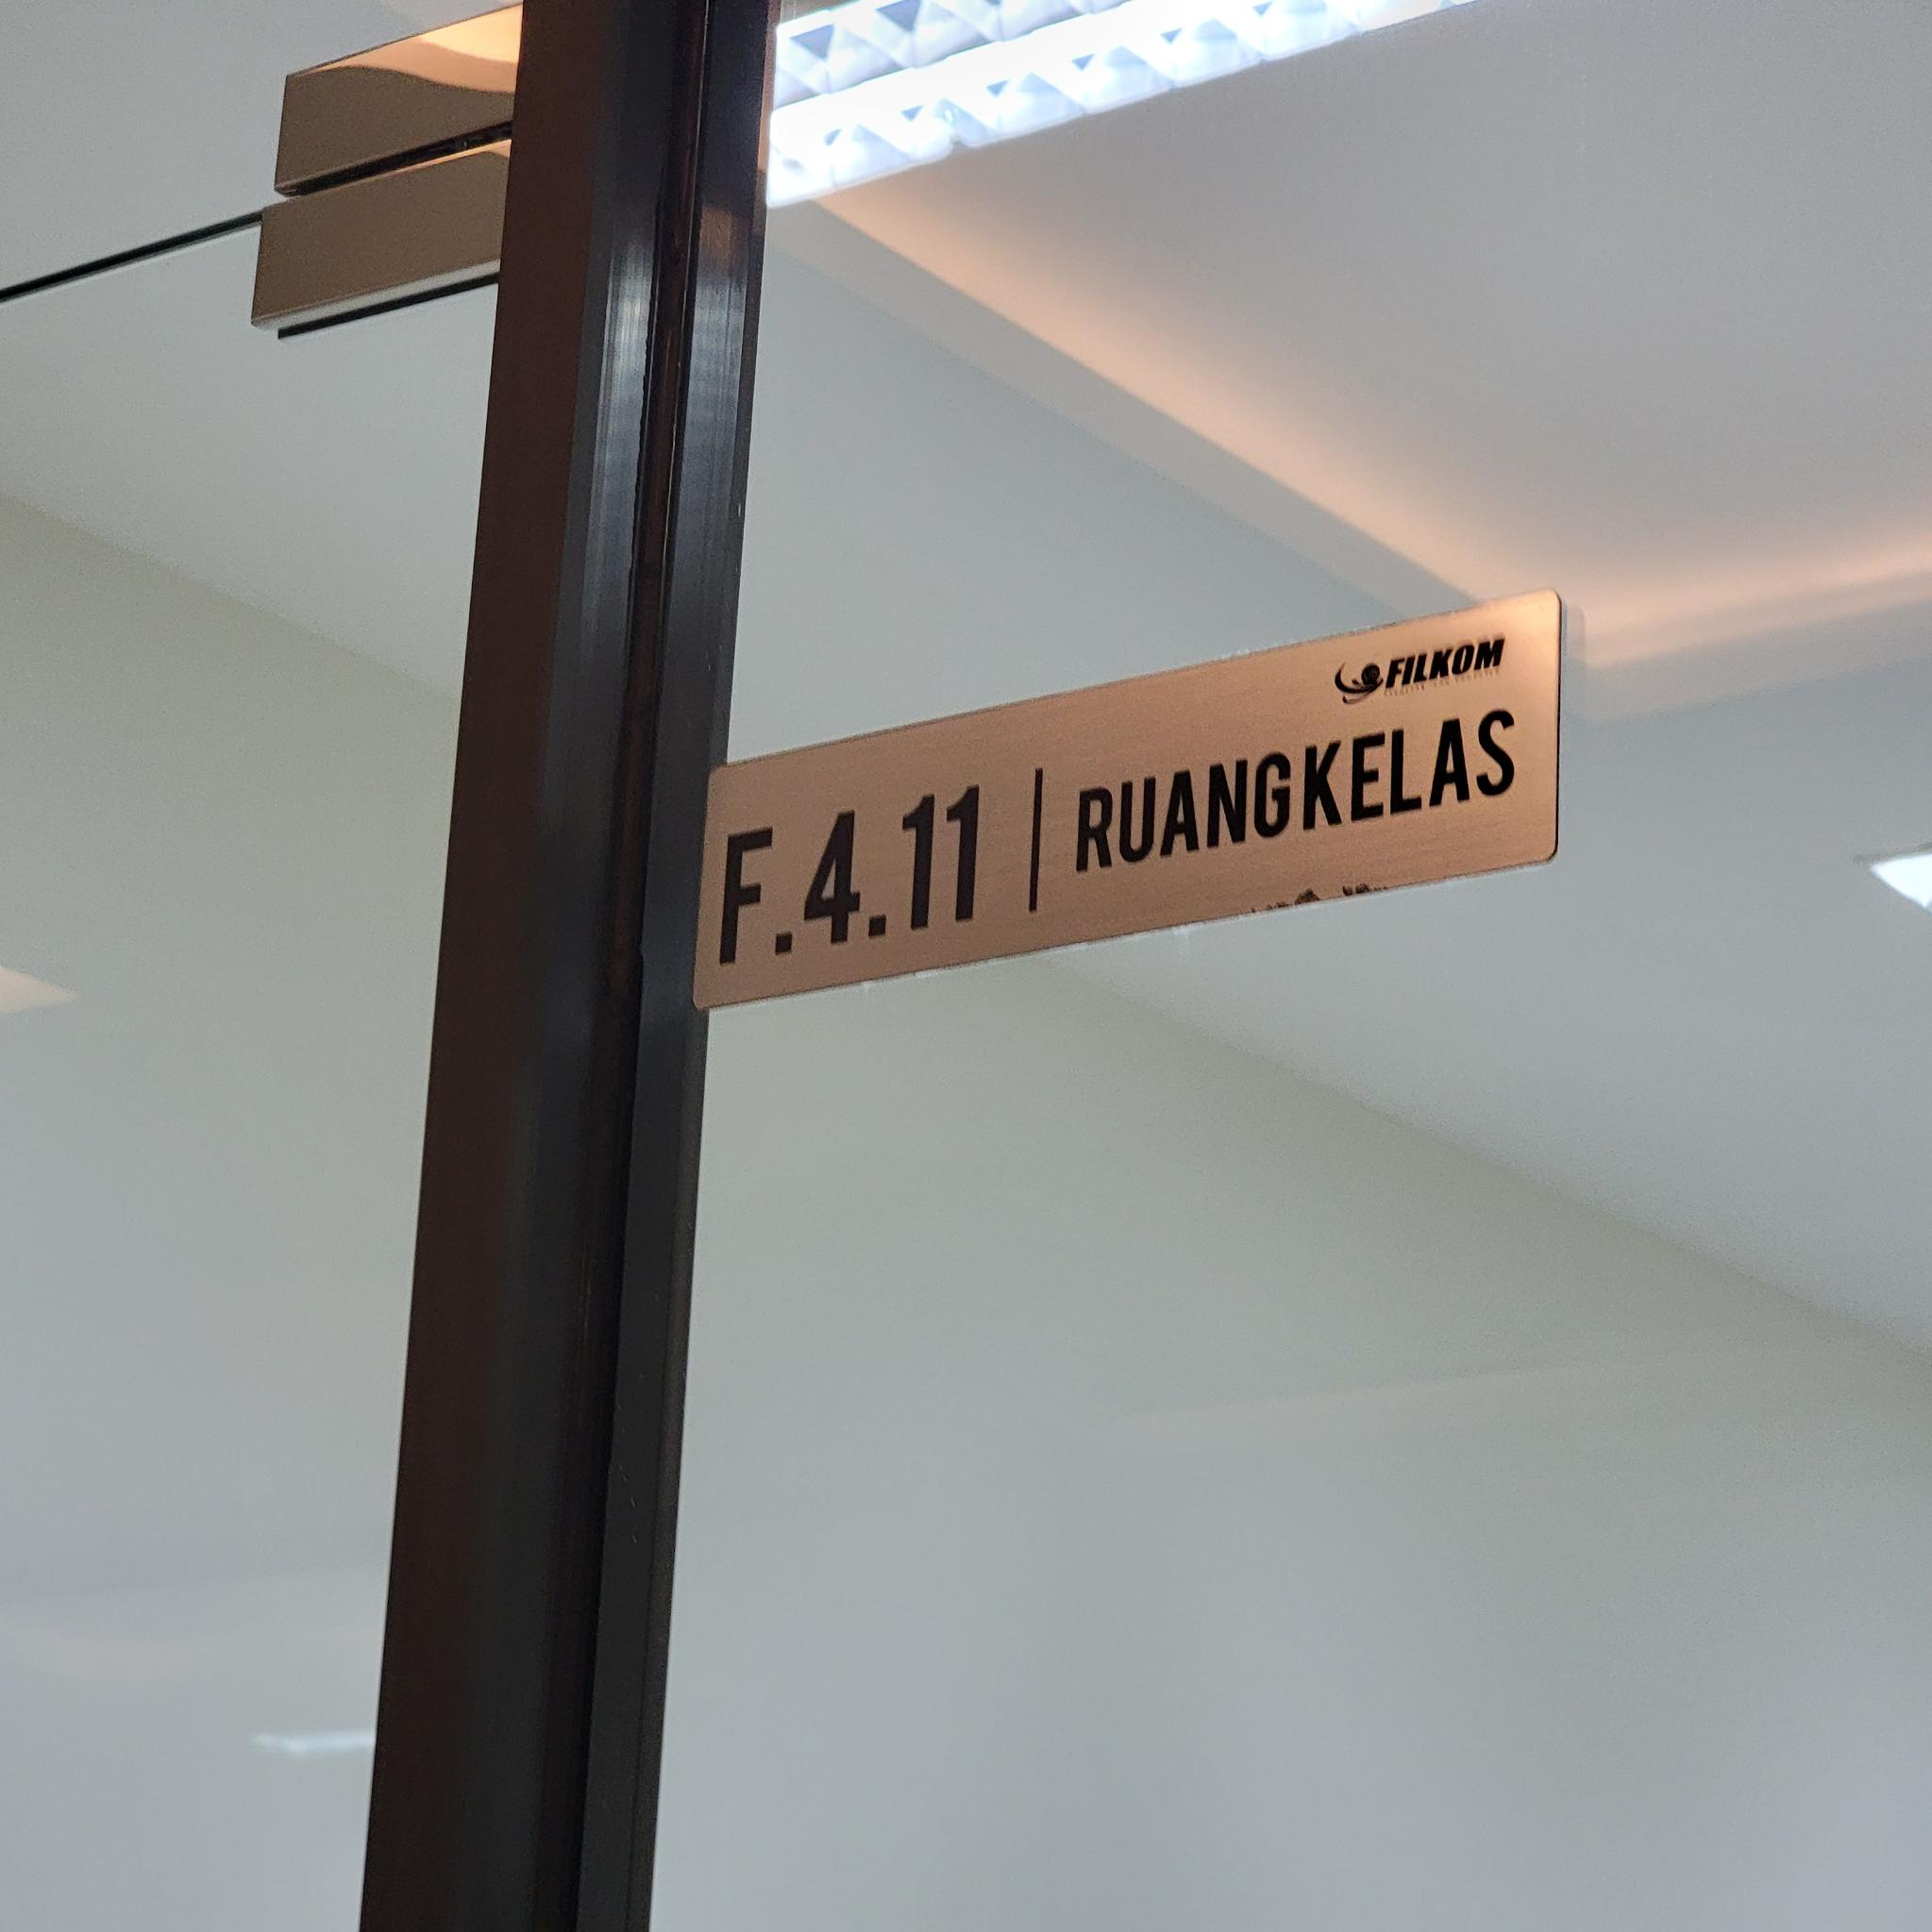plate: (686, 586, 1564, 1012)
